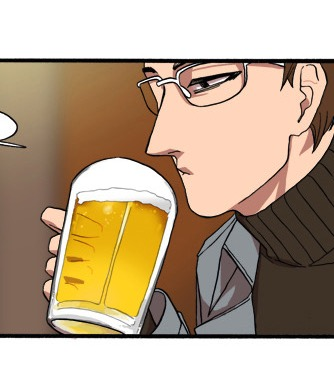beer: (44, 154, 180, 334)
cup: (41, 150, 179, 335)
